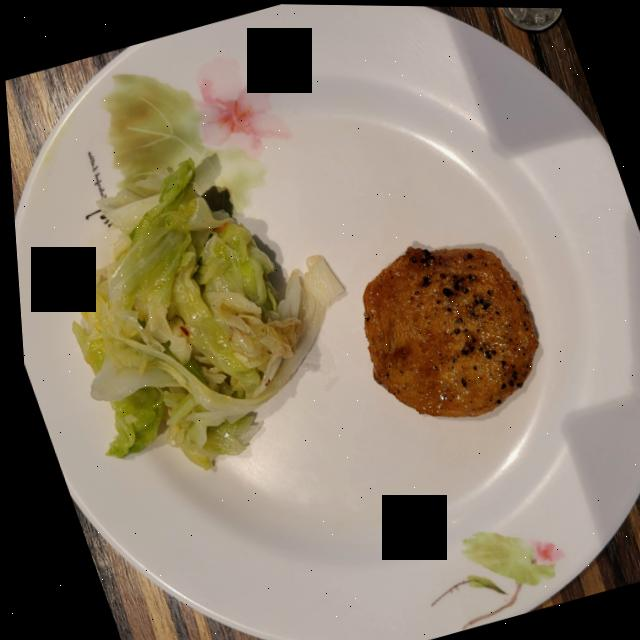cabbage: (67, 157, 338, 468)
coin: (501, 6, 561, 28)
fish cake: (358, 244, 533, 415)
